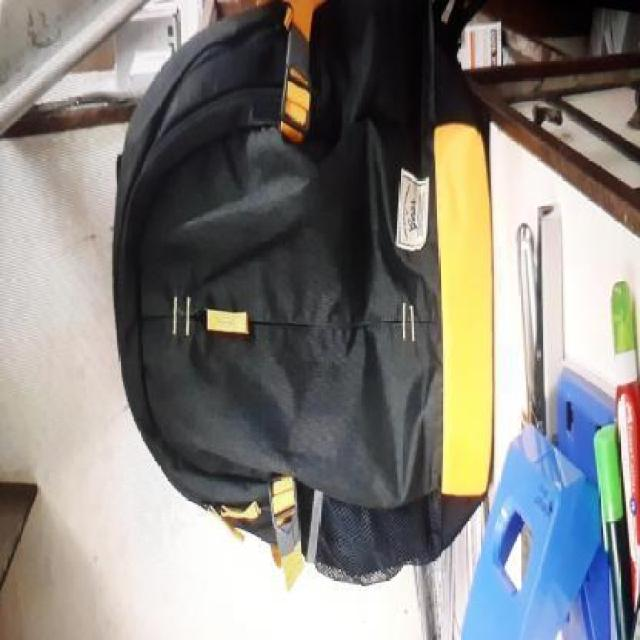backpack: (106, 0, 503, 592)
